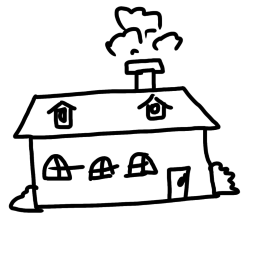closed_window: (39, 149, 77, 189), (83, 151, 122, 185), (123, 147, 163, 180)
door: (163, 158, 192, 211)
roof: (9, 82, 227, 145)
smoking_chimney: (104, 0, 189, 94)
wall: (26, 123, 222, 212)
